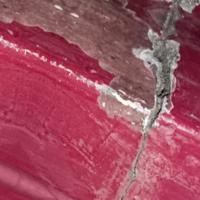crack: (108, 8, 199, 199)
